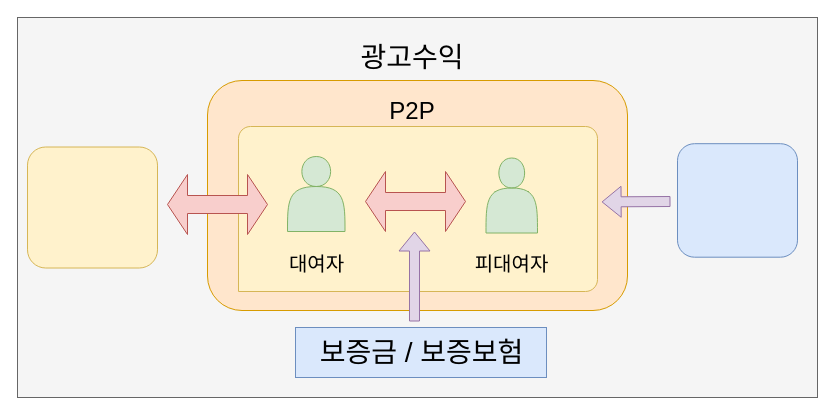
Image size: 835x415. Some labels were removed from this diagram. Here are the shapes that lost their labels. From the top down, the centre of each, then its label:
At point (92, 207): "오프라인 대여 사업자".
At point (737, 200): "이용자 데이터 분석".
